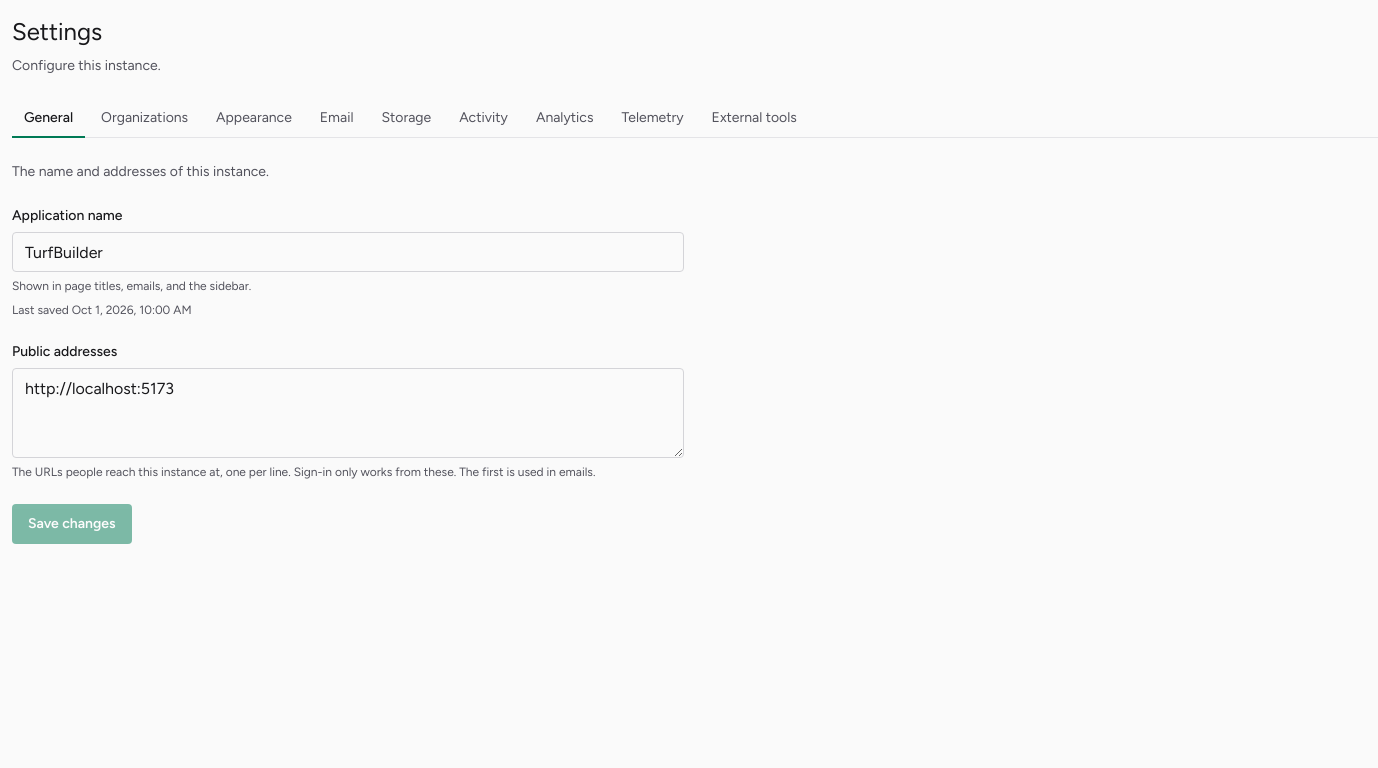
InfraSettingsPage › tells the admin when a restart is needed
This screenshot has width=1378, height=768.
Type "Acme" into the field labelled "Application name" at point(348, 252), box [12,232,684,272]
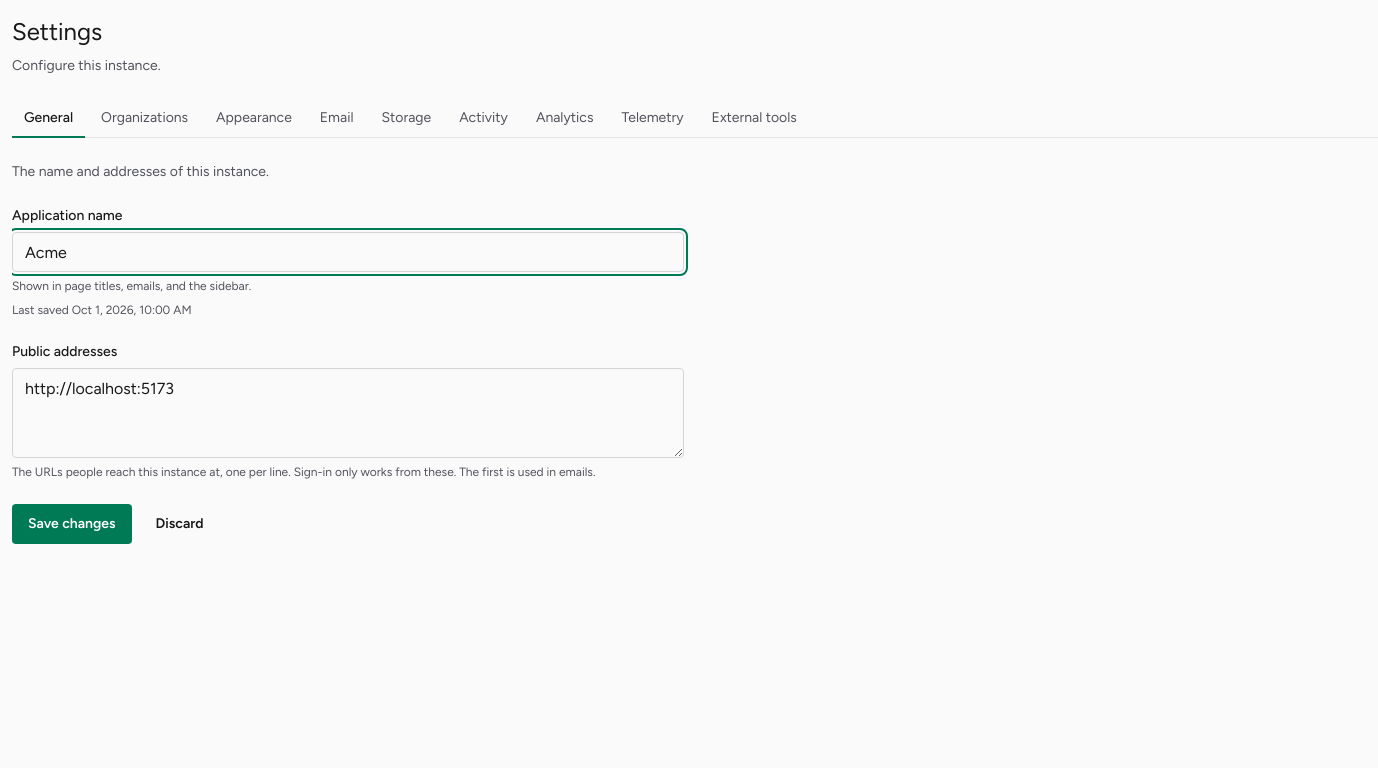
Click the button "Save changes" at point(72, 524), box [12,504,132,544]
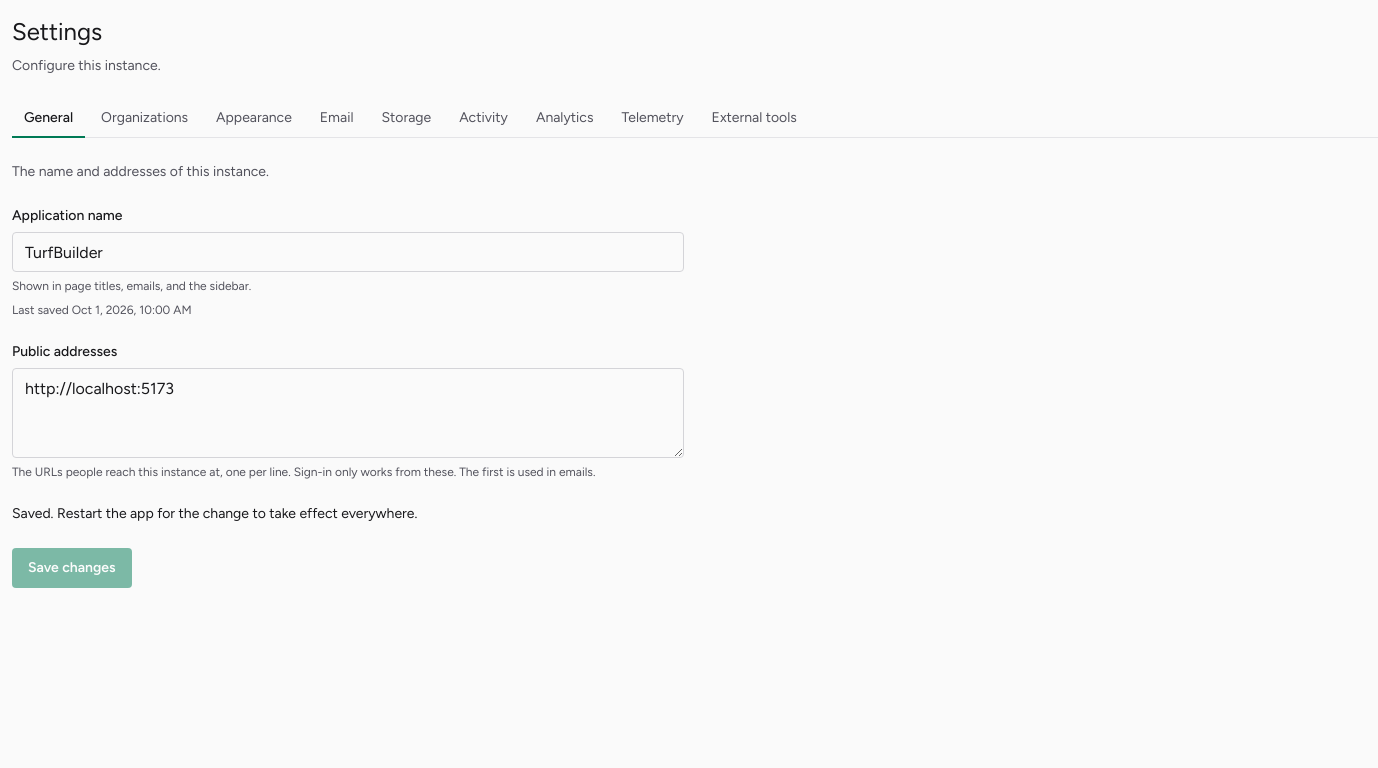
Now the message shows "Restart the app", box [12,505,417,522]
